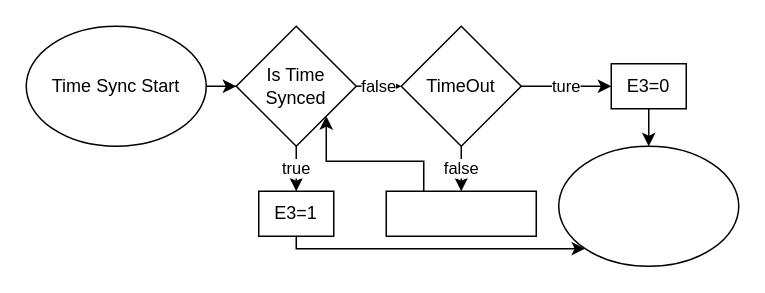
The diagram is 765 pixels wide and 293 high, and some of its shapes have lost their labels. The shapes that lost their labels are listed below. From the top down, each one's box as (x1, y1, x2, y2) in pixels, then its label:
(385, 190, 536, 236): Try Time Sync
(557, 145, 739, 266): Time Sync Stop
